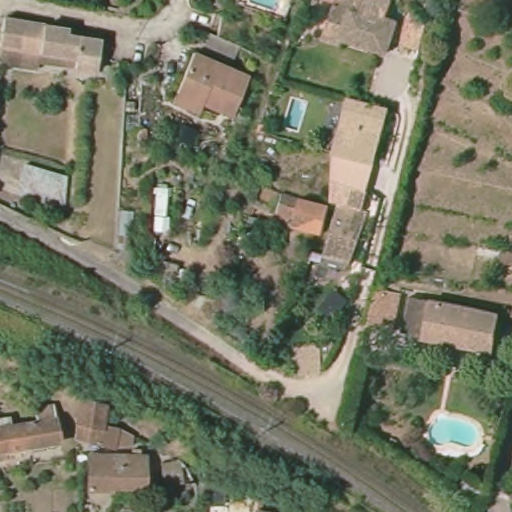pool: (425, 413, 480, 451), (280, 96, 310, 134), (244, 1, 285, 12)
